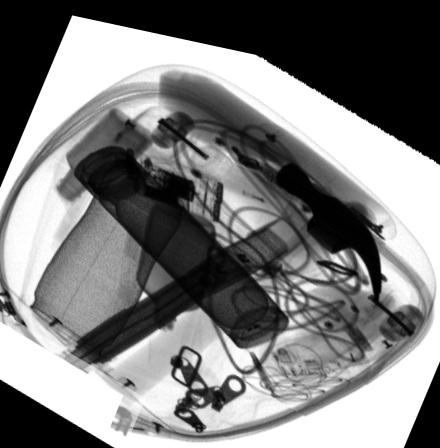Hammer: (99, 145, 381, 400)
